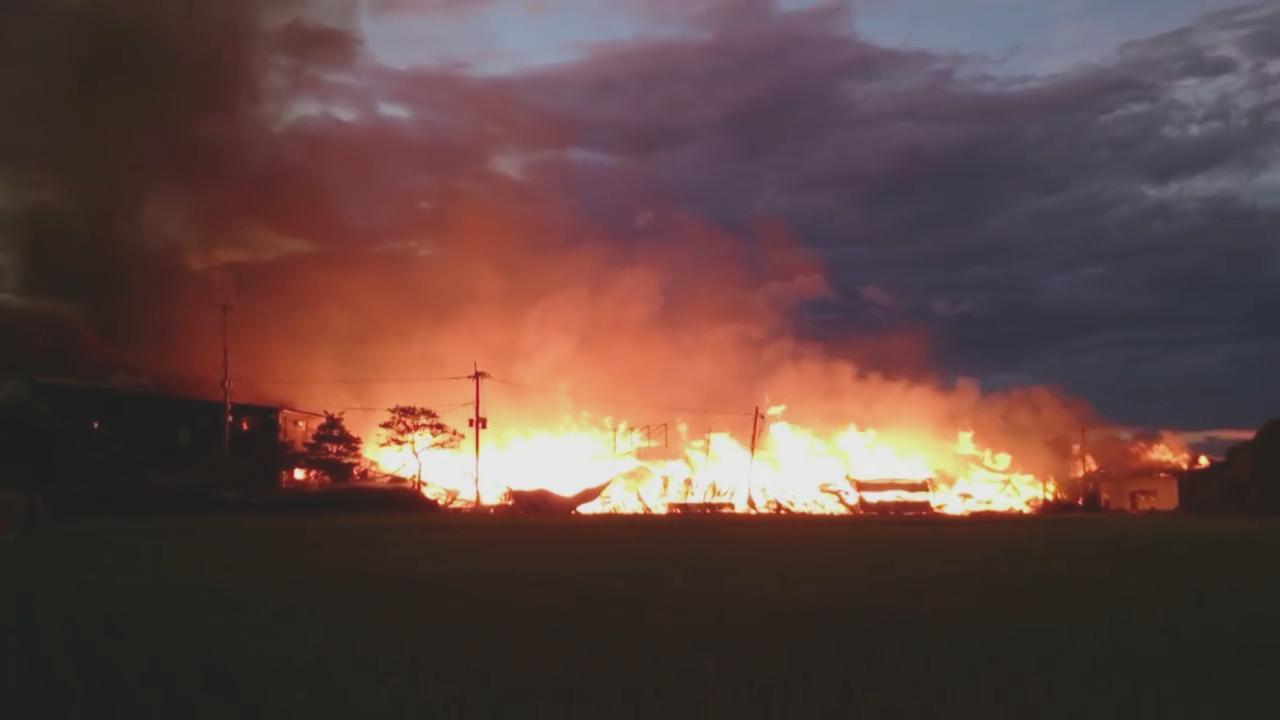Fire: (357, 398, 1065, 519), (1139, 432, 1214, 474), (1069, 440, 1105, 477), (295, 465, 308, 482)
